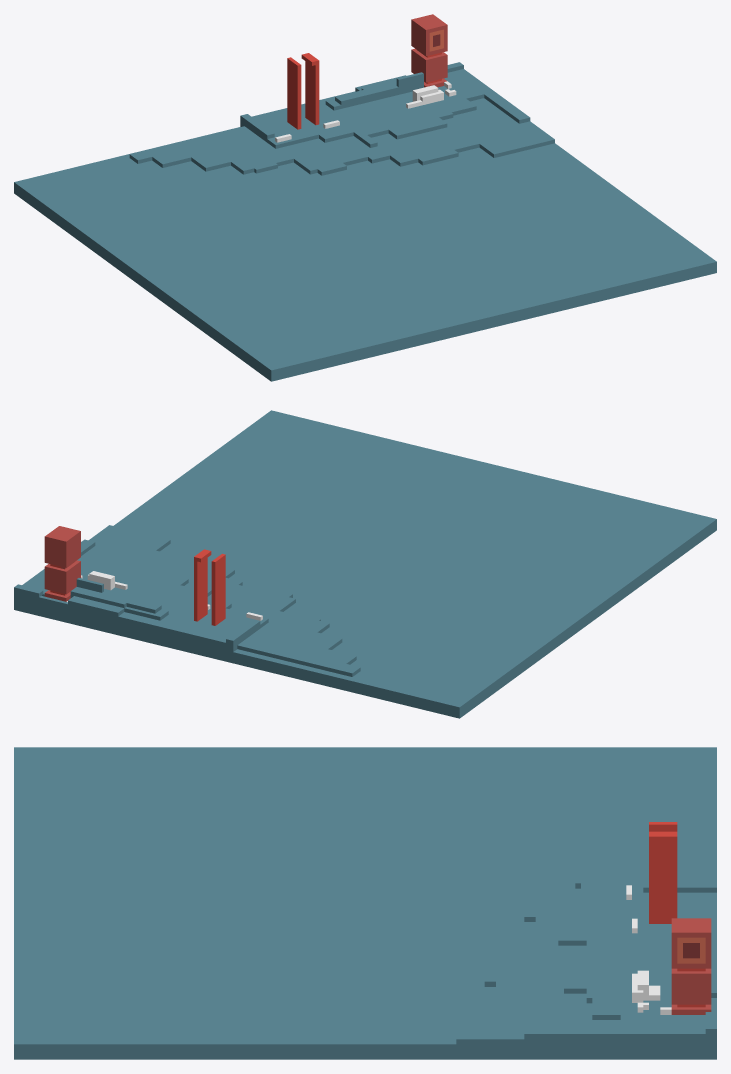
The model's file is sea1.fbx.
3 renders of one model, top to bottom at view 1: azimuth 30°, elevation 25°; view 2: azimuth 150°, elevation 25°; view 3: azimuth 270°, elevation 25°, orthographic. The views are drawn at different scales.
Visible parts, largest first — view 1: 对象; view 2: 对象; view 3: 对象.
Boxes of the visible parts, x1=… form: 对象: x1=14, y1=14, x2=716, y2=381; 对象: x1=14, y1=410, x2=716, y2=718; 对象: x1=14, y1=747, x2=716, y2=1059.
Bounding box in the file's own units: 124 × 22 × 124.
Materials: 1 (1 with a texture image).
